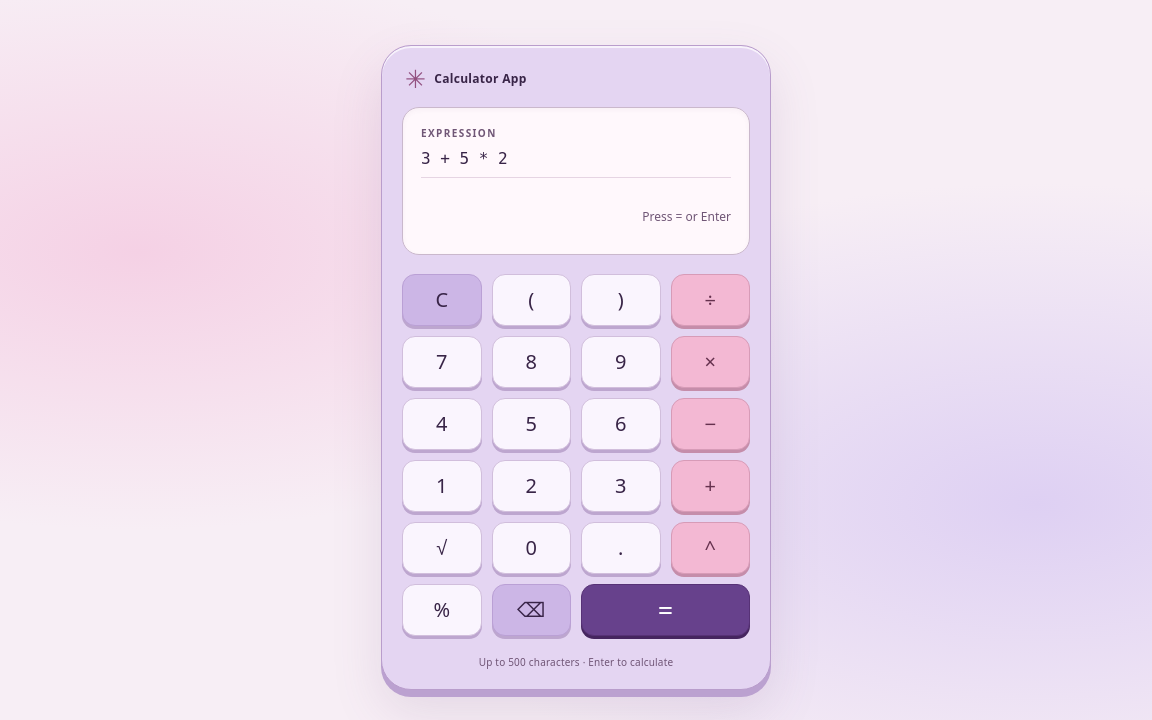
Test case: App › continues from the result with the keypad
The image size is (1152, 720).
Replace the text in the field labelled "Expression" with "2 + 3": coordinates (576, 158) [421,140,731,178]
Then press Enter
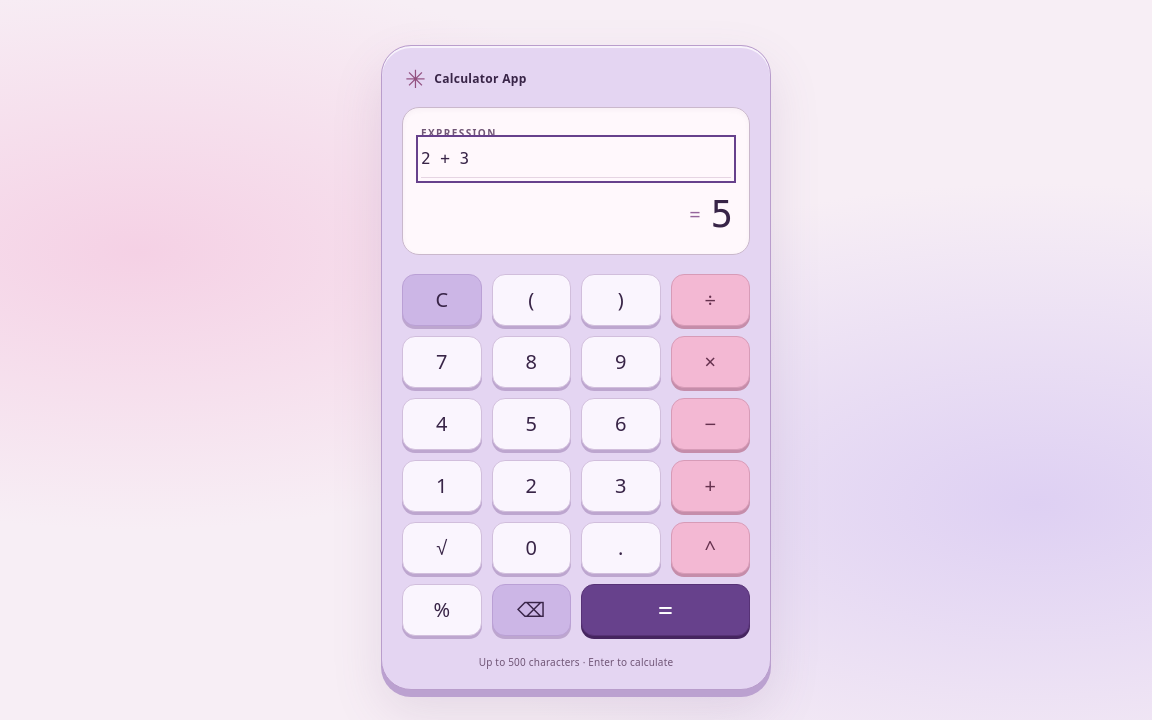
Check: the text "5" is shown, box [711,192,731,236]
Click the button "×": coordinates (710, 362) [670,336,750,388]
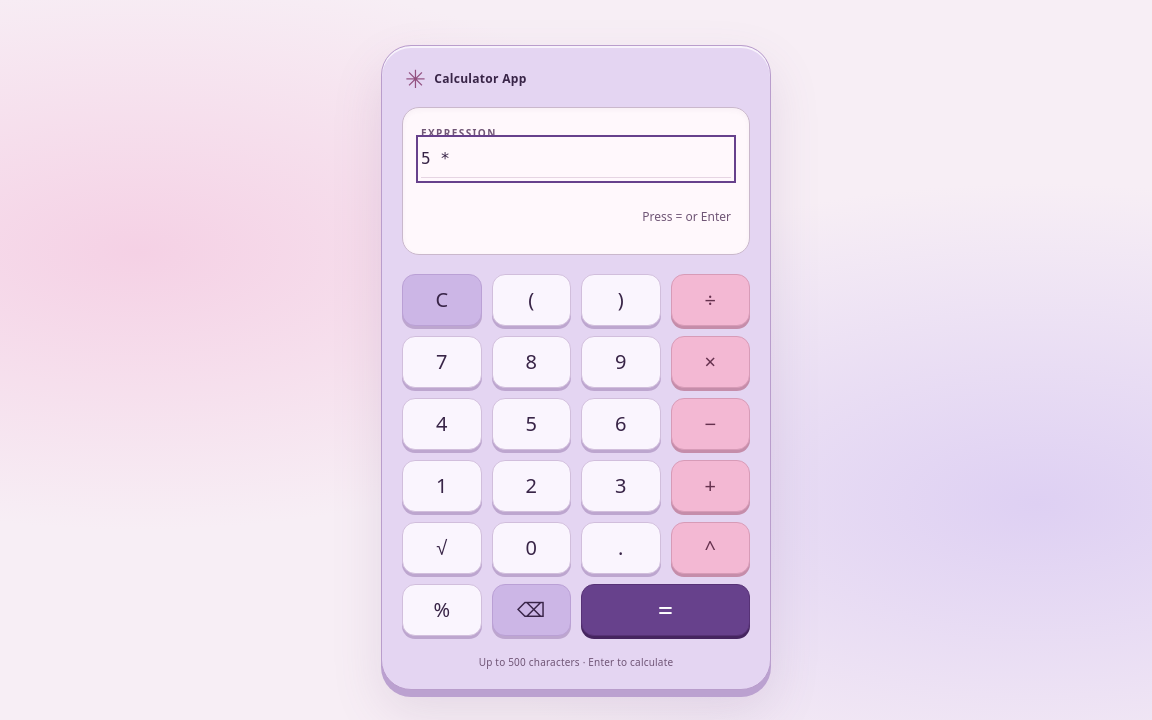
Check: the field labelled "Expression" holds "5 * ", box [421,140,731,178]
Click the button "4": coordinates (442, 424) [402,398,482,450]
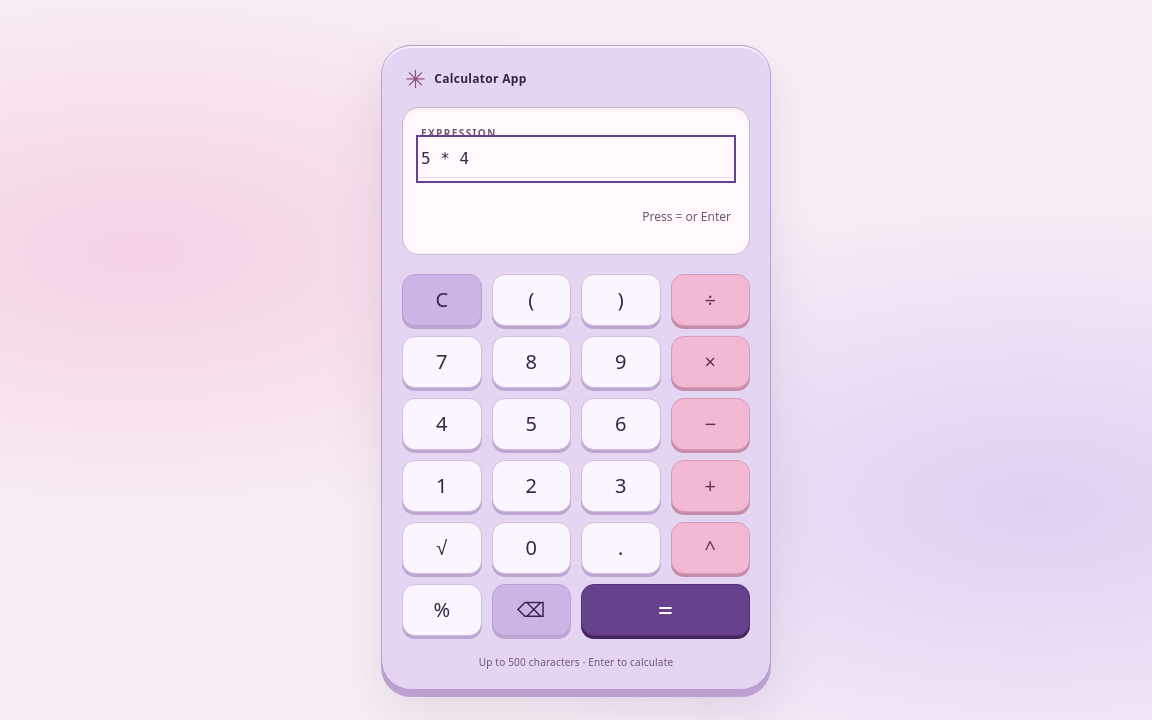
Click the button "=": coordinates (666, 610) [581,584,750,636]
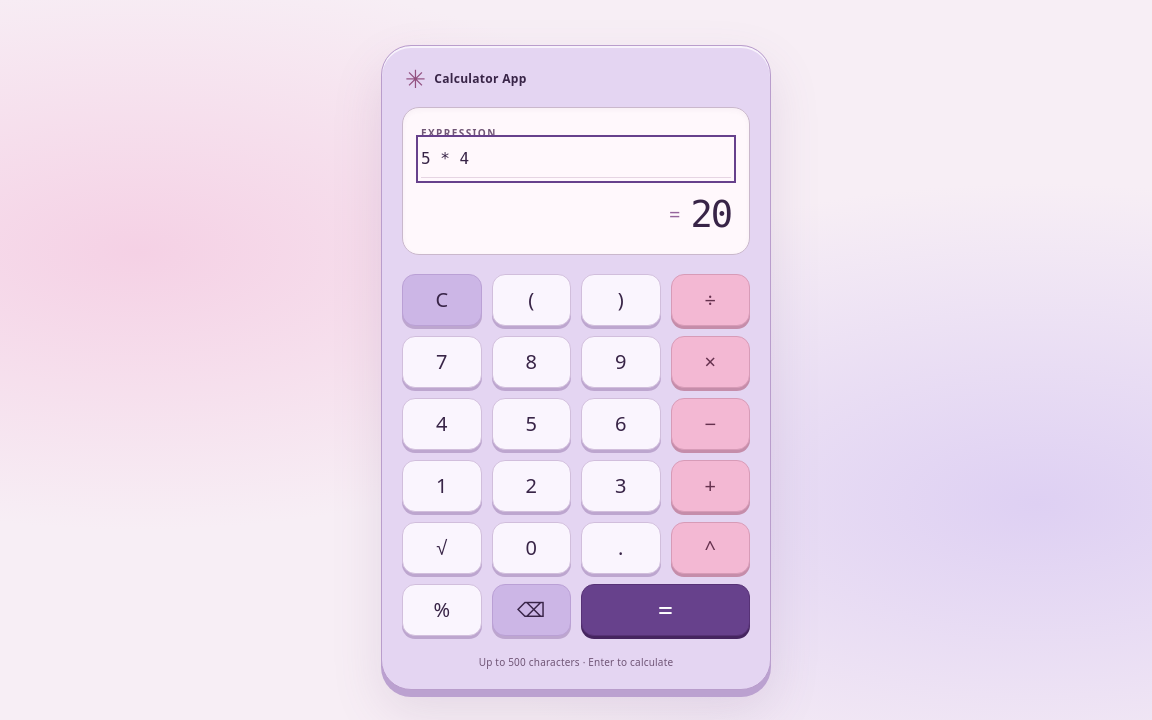
Check: the text "20" is shown, box [690,192,731,236]
